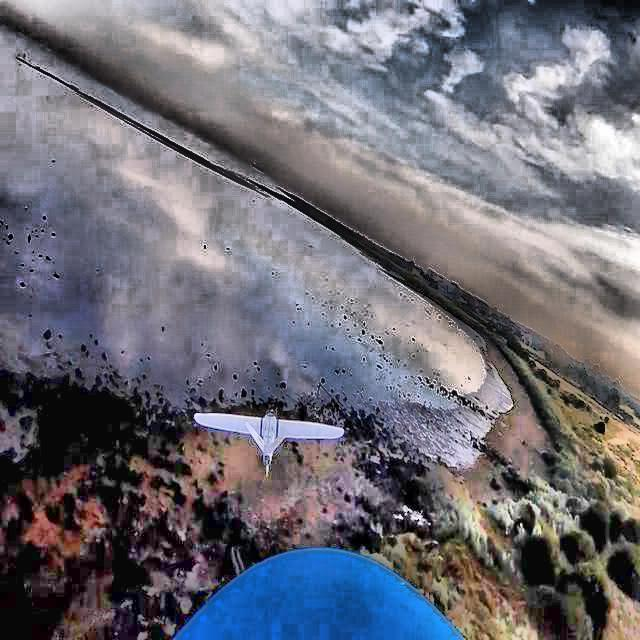iha: (178, 427, 339, 446)
